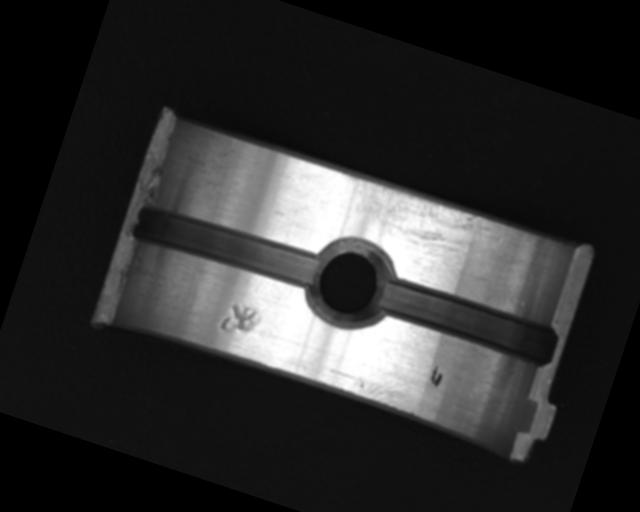blot: (429, 364, 446, 388)
bruise: (218, 299, 263, 342)
gap: (127, 195, 324, 300), (373, 272, 562, 371)
hole: (296, 227, 403, 340)
scratch: (326, 171, 511, 276)
